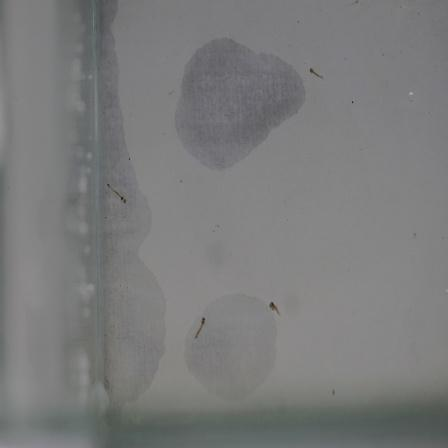Jentik-Nyamuk: (103, 179, 131, 209), (189, 311, 211, 345), (303, 61, 329, 89), (265, 299, 288, 323)
